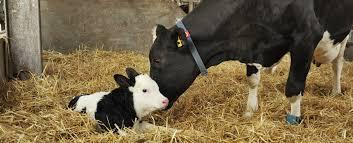cow: (149, 0, 353, 125), (67, 67, 184, 136)
